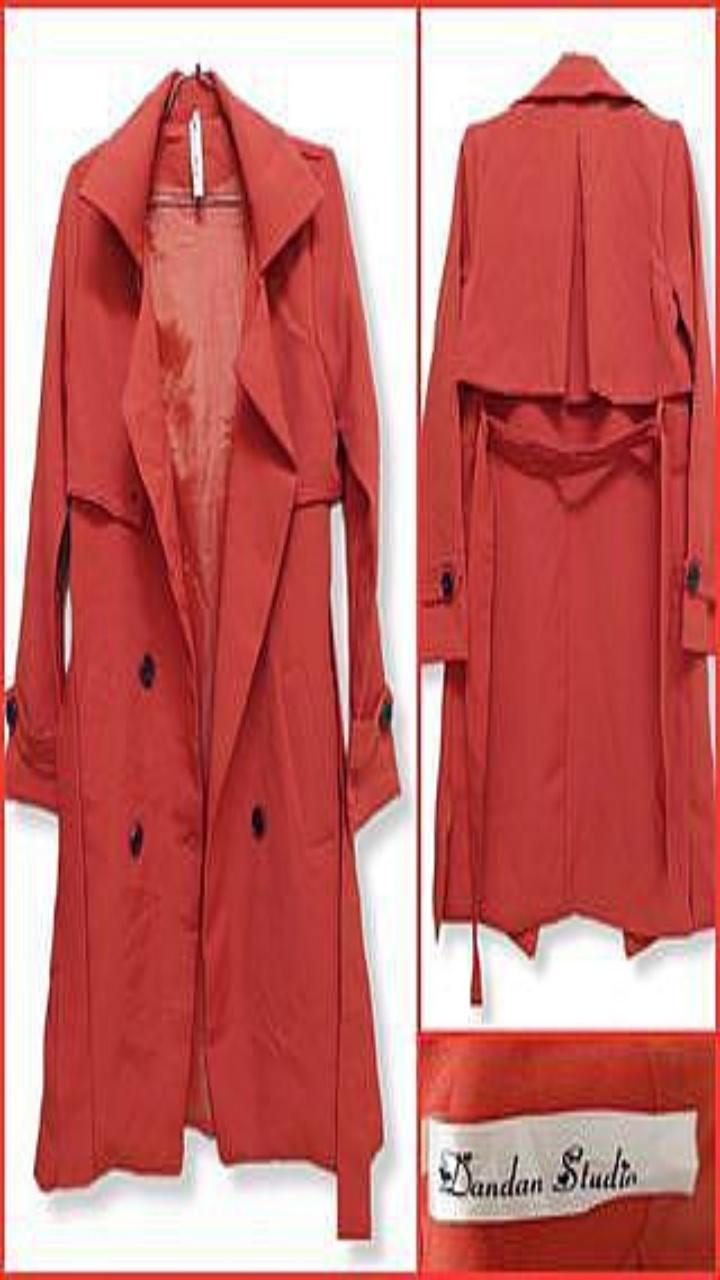Coat: (6, 75, 397, 1236), (421, 56, 715, 953), (419, 1033, 715, 1274)
